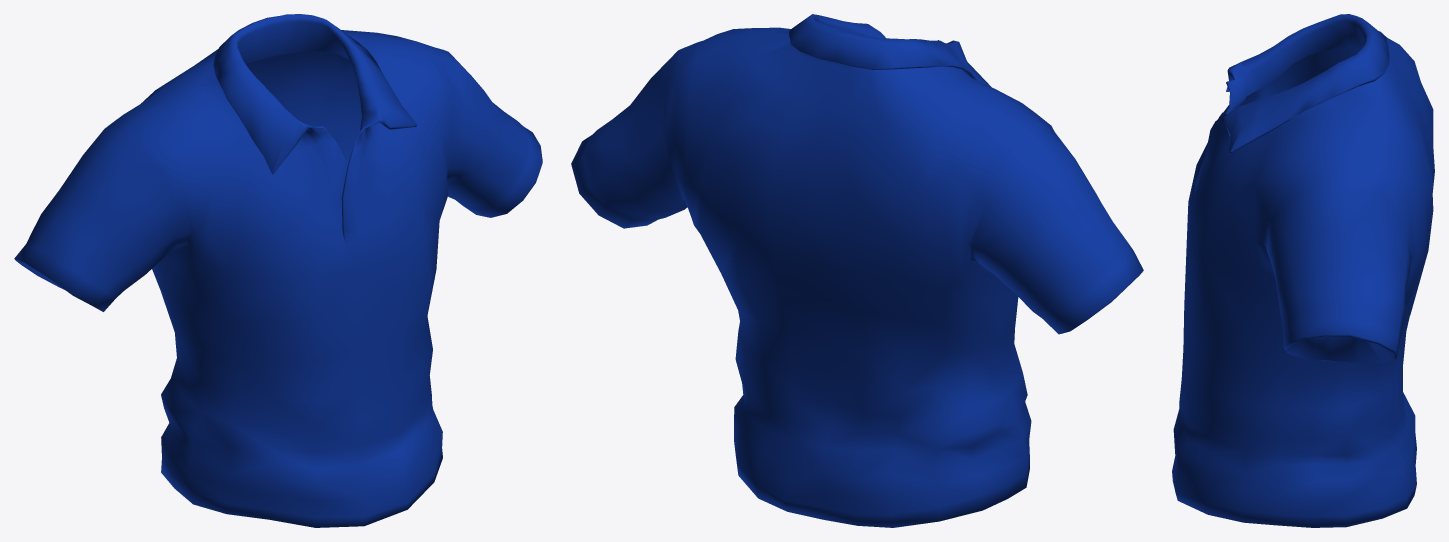
Rendered from Tee.obj.
3 views of the same model, side by side, from view 1: azimuth 30°, elevation 25°; view 2: azimuth 150°, elevation 25°; view 3: azimuth 270°, elevation 25° (orthographic). The views are drawn at different scales.
Visible parts, largest first — view 1: Mesh_0219.rip_Tex_011_Mesh_0219.rip_Tex_011_Tex_0117_0.dds_.001; view 2: Mesh_0219.rip_Tex_011_Mesh_0219.rip_Tex_011_Tex_0117_0.dds_.001; view 3: Mesh_0219.rip_Tex_011_Mesh_0219.rip_Tex_011_Tex_0117_0.dds_.001.
Boxes of the visible parts, left/top/right/bottom form: Mesh_0219.rip_Tex_011_Mesh_0219.rip_Tex_011_Tex_0117_0.dds_.001: left=14, top=14, right=542, bottom=527; Mesh_0219.rip_Tex_011_Mesh_0219.rip_Tex_011_Tex_0117_0.dds_.001: left=571, top=14, right=1143, bottom=527; Mesh_0219.rip_Tex_011_Mesh_0219.rip_Tex_011_Tex_0117_0.dds_.001: left=1172, top=14, right=1434, bottom=527.
Bounding box in the file's own units: 403 × 332 × 176.
